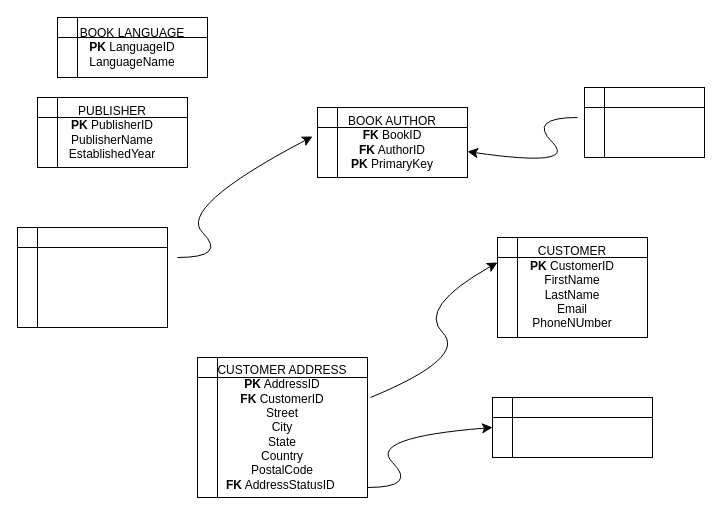
Some shapes in this 722 by 515 pixel diagram are drawn without their labels. The box of each missing label's shape, as (x1, y1, x2, y2) in pixels:
ADDRESS STATUS PK AddressStatusID StatusName: (492, 396, 652, 458)
AUTHORS PK AuthorID BirthYear: (584, 86, 704, 158)
BOOKS PK BookID Title Genre PublishedYear Price: (16, 226, 168, 328)
